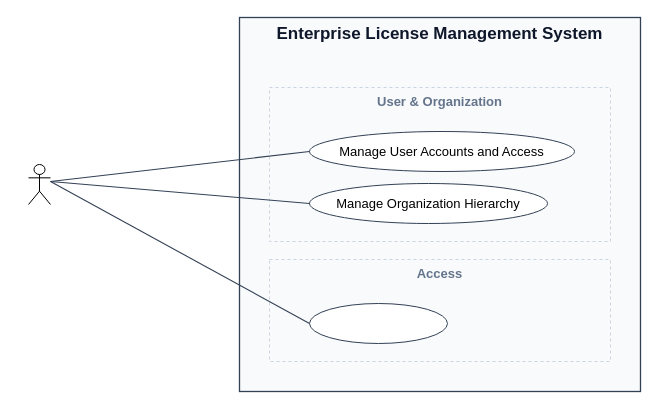
This 659x410 diagram has some shape labels left out. The shapes that lost their labels are listed below. From the top down, each one's centre as x and y in pixels, then its label:
At (x=39, y=184): "Admin".
At (x=378, y=323): "Login / Logout".
